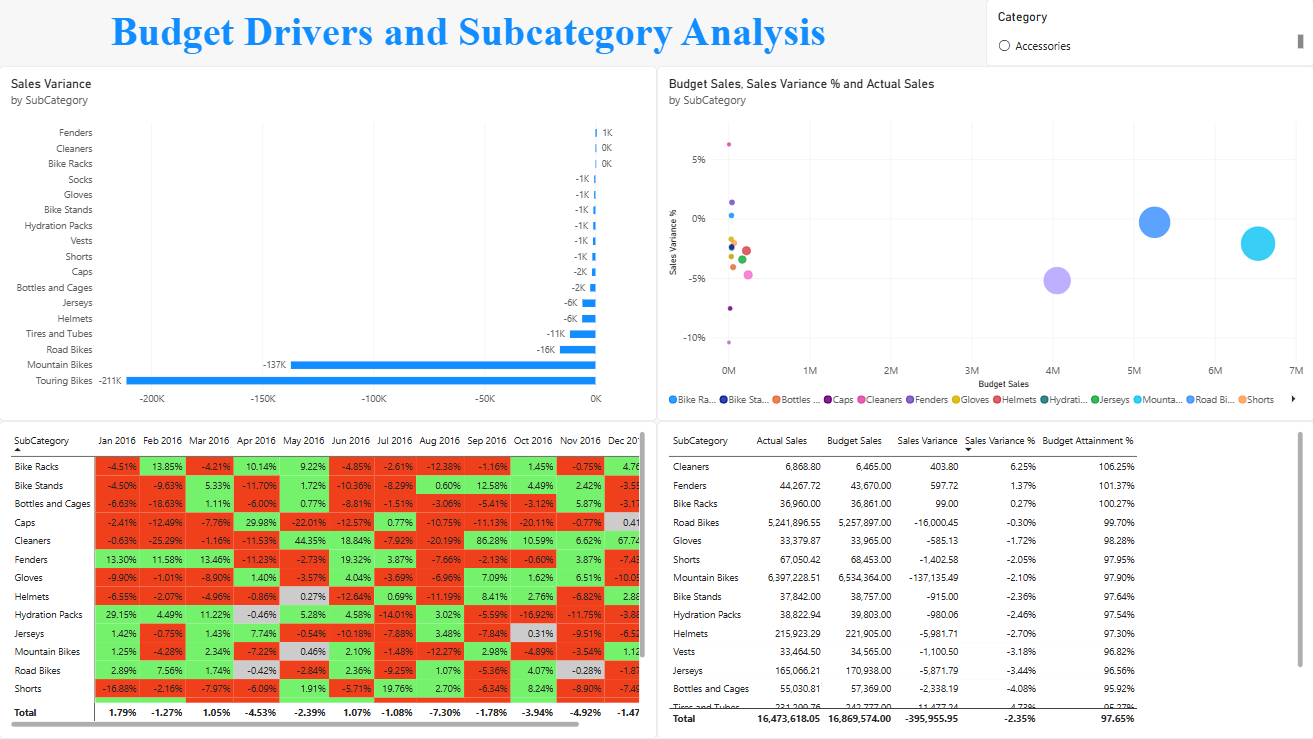

The dashboard page shown, as its layout file describes it:
{"tool":"powerbi","page":{"name":"Page 2","canvas":[1920,1080],"ordinal":1},"visuals":[{"type":"textbox","box":[163.4,14.6,1108.8,94.8],"z":0},{"type":"listSlicer","fields":{"Values":["DimProduct.Category"]},"box":[1440,0,480,97.8],"z":1000},{"type":"clusteredBarChart","fields":{"Category":["DimProduct.SubCategory"],"Y":["FactSales.Sales Variance"]},"box":[0,97.8,960,517.9],"z":2000},{"type":"scatterChart","fields":{"X":["FactBudget.Budget Sales"],"Y":["FactSales.Sales Variance %"],"Series":["DimProduct.SubCategory"],"Size":["FactSales.Actual Sales"]},"box":[960,97.8,960,517.9],"z":3000},{"type":"pivotTable","fields":{"Rows":["DimProduct.SubCategory"],"Columns":["DimDate.Month-Year"],"Values":["FactSales.Sales Variance %"]},"box":[0,615.7,960,464],"z":4000},{"type":"tableEx","fields":{"Values":["DimProduct.SubCategory","FactSales.Actual Sales","FactBudget.Budget Sales","FactSales.Sales Variance","FactSales.Sales Variance %","FactSales.Budget Attainment %"]},"box":[960,615.7,960,464],"z":5000}]}

Visuals, with their boxes in screenshot pixels (x1, y1, x2, y2), scaled from the page's 1920x1080 canvas onto the 1313x739 screenshot:
textbox: bbox(112, 10, 870, 75)
listSlicer - DimProduct.Category: bbox(985, 0, 1312, 67)
clusteredBarChart - DimProduct.SubCategory x FactSales.Sales Variance: bbox(0, 67, 656, 421)
scatterChart - FactBudget.Budget Sales x FactSales.Sales Variance %: bbox(656, 67, 1312, 421)
pivotTable - DimProduct.SubCategory x DimDate.Month-Year: bbox(0, 421, 656, 738)
tableEx - DimProduct.SubCategory x FactSales.Actual Sales: bbox(656, 421, 1312, 738)
